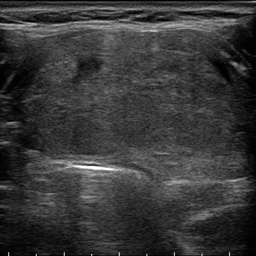mass: (19, 34, 245, 172)
